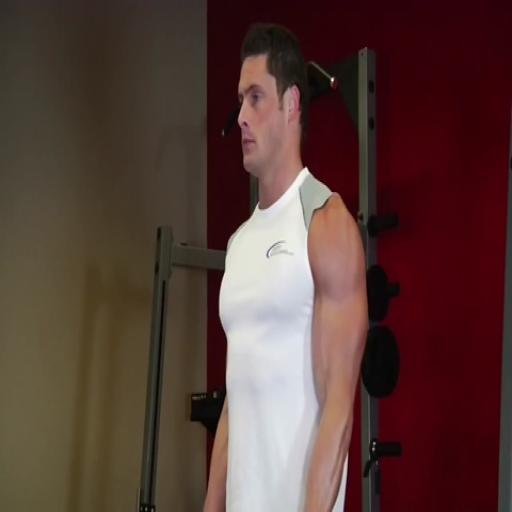exercise: (195, 20, 372, 510)
